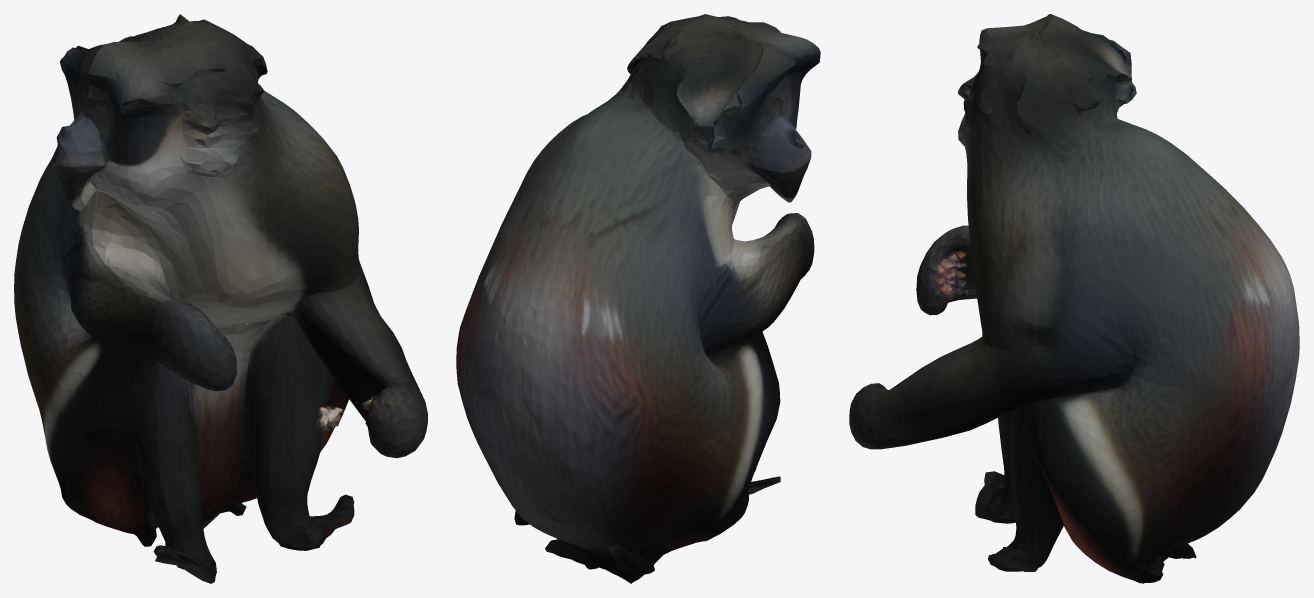
3 views of the same model, side by side, from view 1: azimuth 30°, elevation 25°; view 2: azimuth 150°, elevation 25°; view 3: azimuth 270°, elevation 25° (orthographic). The views are drawn at different scales.
Visible parts, largest first — view 1: world; view 2: world; view 3: world.
Boxes of the visible parts, x1=… form: world: x1=14, y1=14, x2=427, y2=583; world: x1=456, y1=14, x2=820, y2=583; world: x1=849, y1=14, x2=1299, y2=583.
Size of the model in its own units: 0.4346 by 0.7516 by 0.6032.
Materials: 1 (1 with a texture image).
